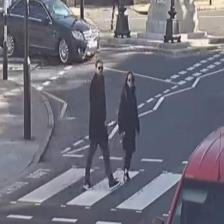person: (83, 58, 121, 190), (117, 71, 140, 182)
